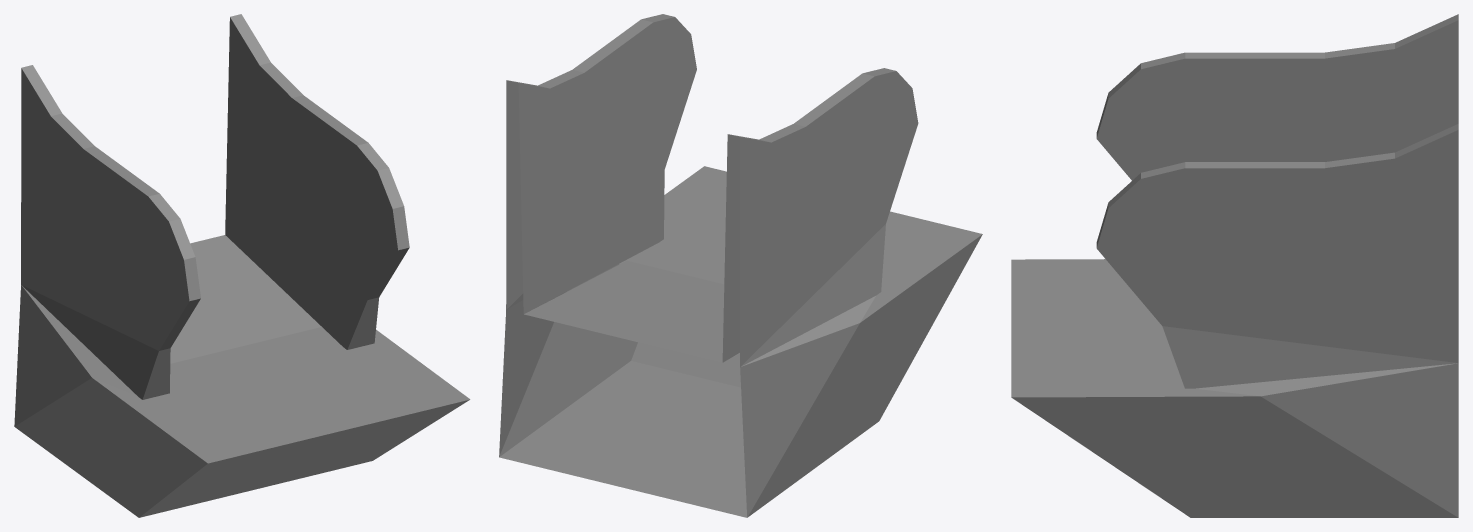
The model's file is SW_ENV_Escalator_BottomSteps_Base_Collision.fbx.
The picture shows the model from 3 angles, left to right: view 1: azimuth 30°, elevation 25°; view 2: azimuth 150°, elevation 25°; view 3: azimuth 270°, elevation 25°; orthographic projection. The views are drawn at different scales.
Visible parts, largest first — view 1: SW_ENV_Escalator_BottomSteps_Base_Collision; view 2: SW_ENV_Escalator_BottomSteps_Base_Collision; view 3: SW_ENV_Escalator_BottomSteps_Base_Collision.
Part boxes in pixels (<box>): SW_ENV_Escalator_BottomSteps_Base_Collision: <box>14,14,470,517</box>; SW_ENV_Escalator_BottomSteps_Base_Collision: <box>499,14,982,517</box>; SW_ENV_Escalator_BottomSteps_Base_Collision: <box>1011,14,1458,517</box>.
Size of the model in its own units: 1.4 by 1.82 by 1.92.
